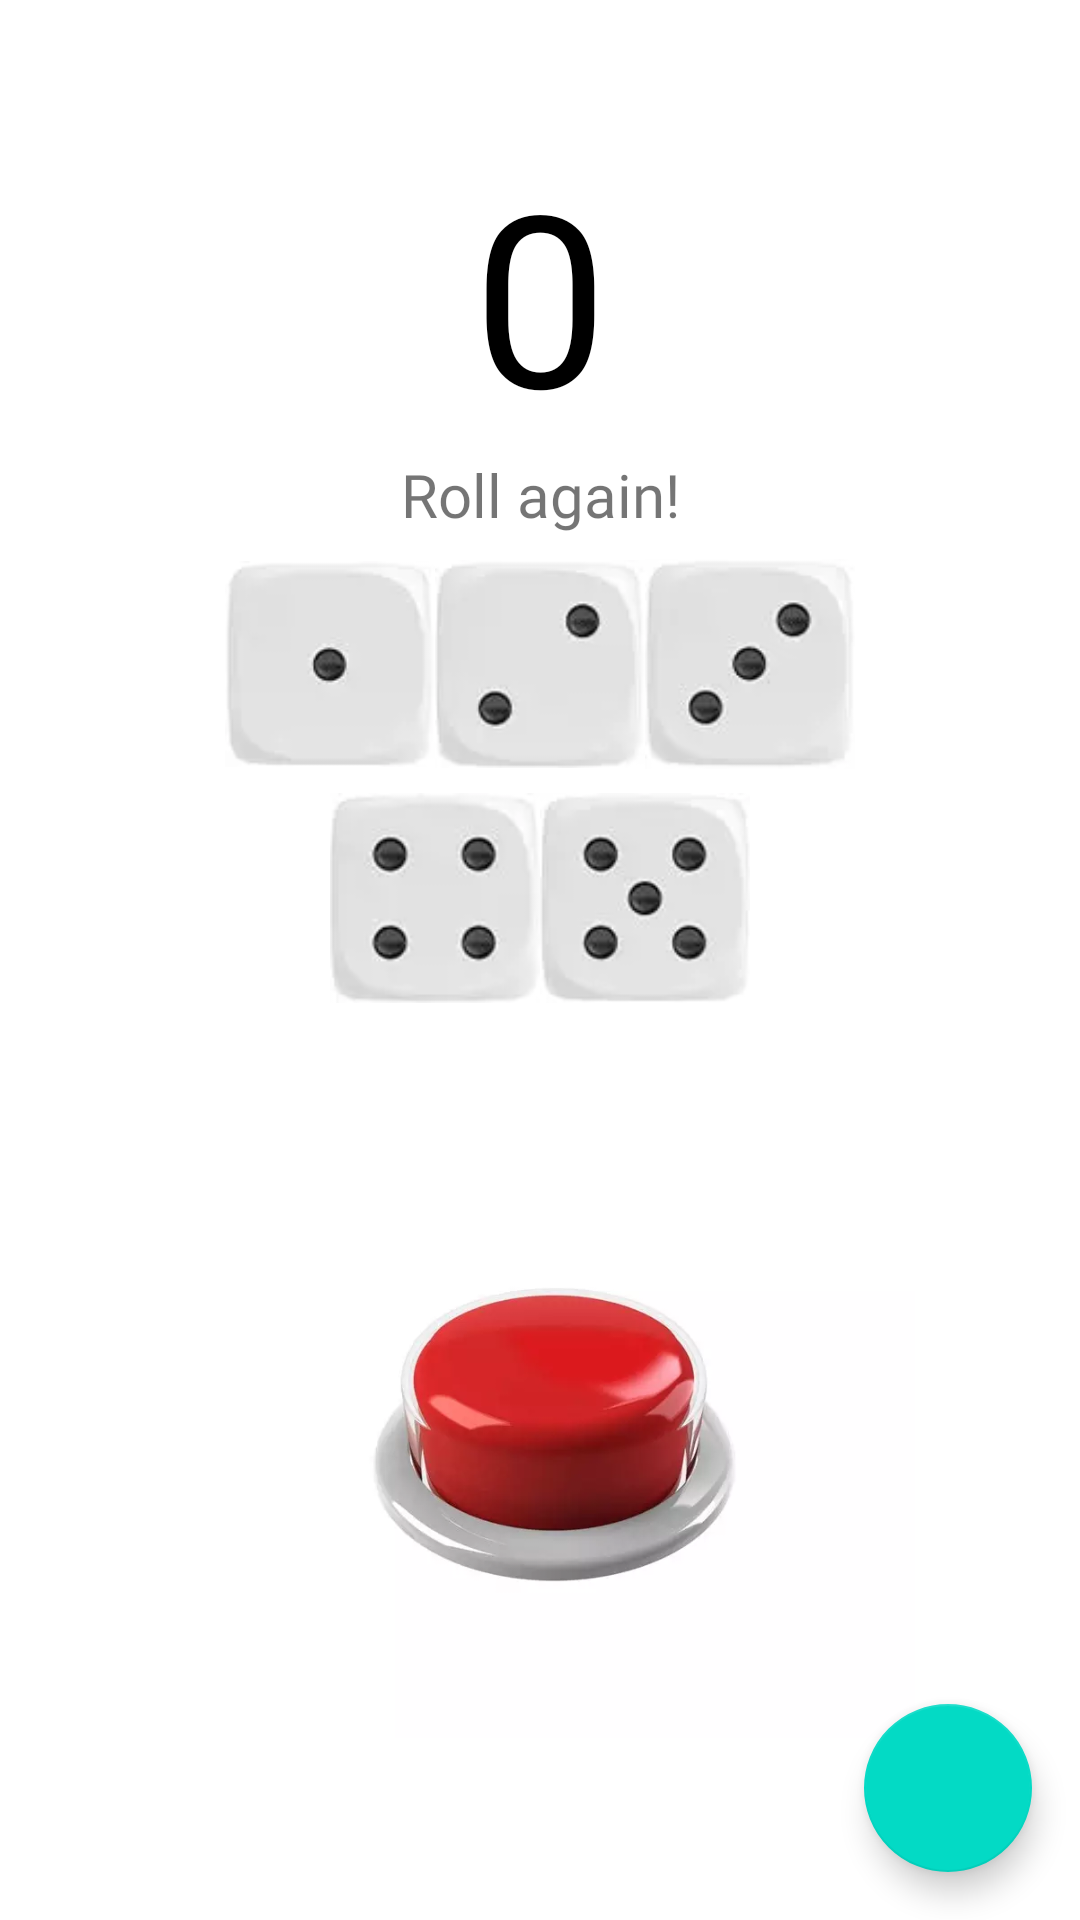

Icons on this 1080x1920 Android screen, each with its box as [x1, y1, x2, y2]:
Dice 1: [228, 568, 424, 765]
Red button: [375, 1293, 733, 1581]
